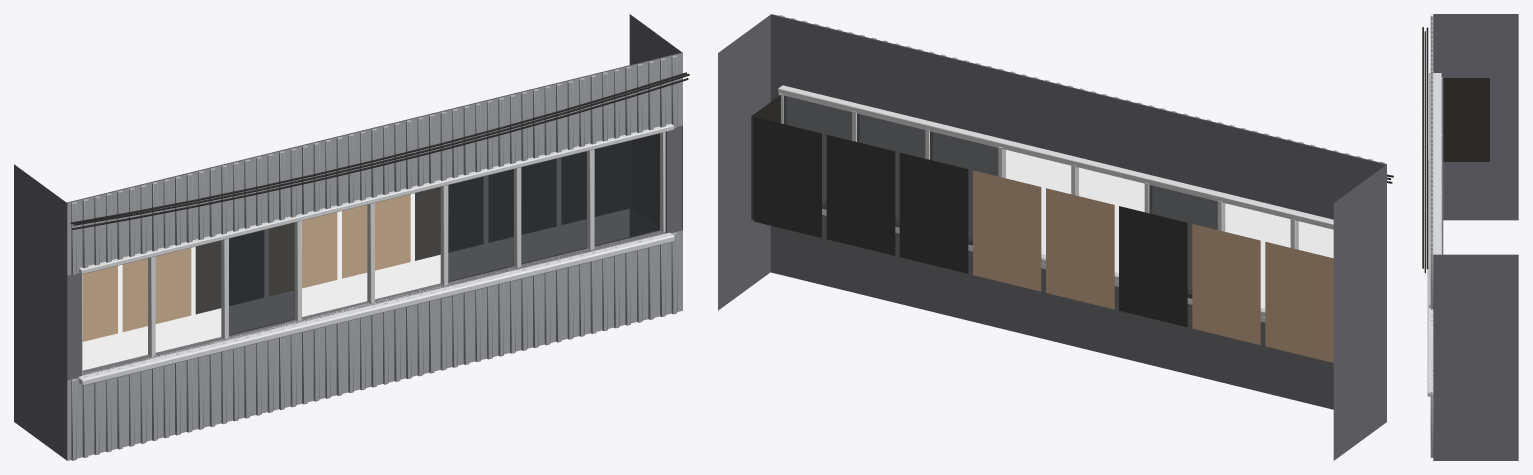
File: retro_upper_8a.glb
3 views of the same model, side by side, from view 1: azimuth 30°, elevation 25°; view 2: azimuth 150°, elevation 25°; view 3: azimuth 270°, elevation 25° (orthographic). The views are drawn at different scales.
Visible parts, largest first — view 1: retro_upper_8a; view 2: retro_upper_8a; view 3: retro_upper_8a.
Part boxes in pixels (<box>): retro_upper_8a: <box>14,14,689,460</box>; retro_upper_8a: <box>718,14,1393,460</box>; retro_upper_8a: <box>1422,14,1518,460</box>.
Bounding box in the file's own units: 8 × 3.2 × 1.35.
